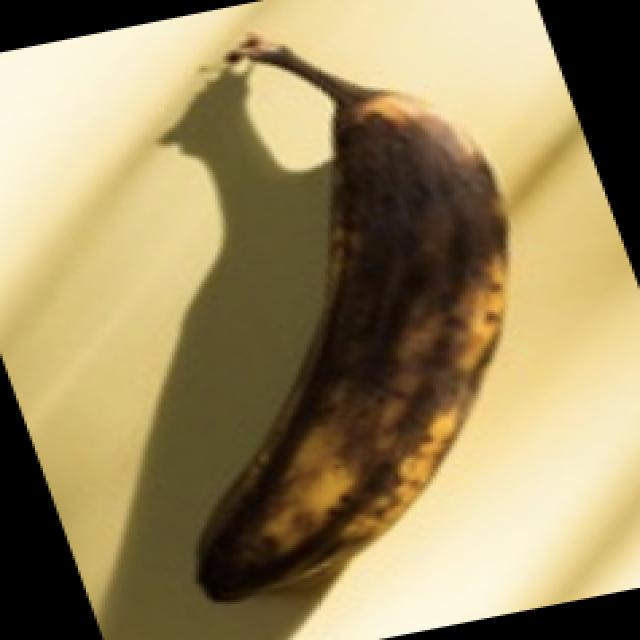Rotten: (192, 34, 513, 607)
